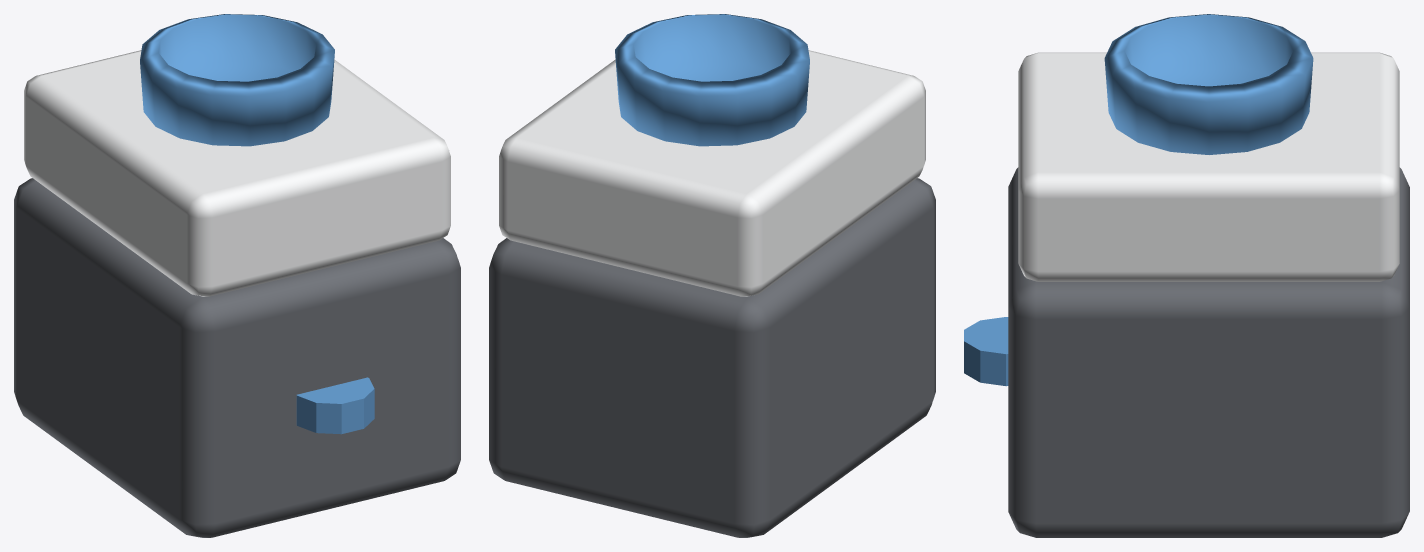
The model's file is vortex-mixer.glb.
3 views of the same model, side by side, from view 1: azimuth 30°, elevation 25°; view 2: azimuth 150°, elevation 25°; view 3: azimuth 270°, elevation 25° (orthographic). The views are drawn at different scales.
Visible parts, largest first — view 1: vortex-mixer, vortex-cup/blue; view 2: vortex-mixer, vortex-cup/blue; view 3: vortex-mixer, vortex-cup/blue.
Part boxes in pixels (x1=…): vortex-mixer: x1=14, y1=50, x2=460, y2=537; vortex-cup/blue: x1=140, y1=14, x2=334, y2=146; vortex-mixer: x1=489, y1=50, x2=935, y2=537; vortex-cup/blue: x1=615, y1=14, x2=809, y2=146; vortex-mixer: x1=964, y1=52, x2=1409, y2=537; vortex-cup/blue: x1=1104, y1=14, x2=1313, y2=154.
Size of the model in its own units: 0.17 by 0.234 by 0.2219.
